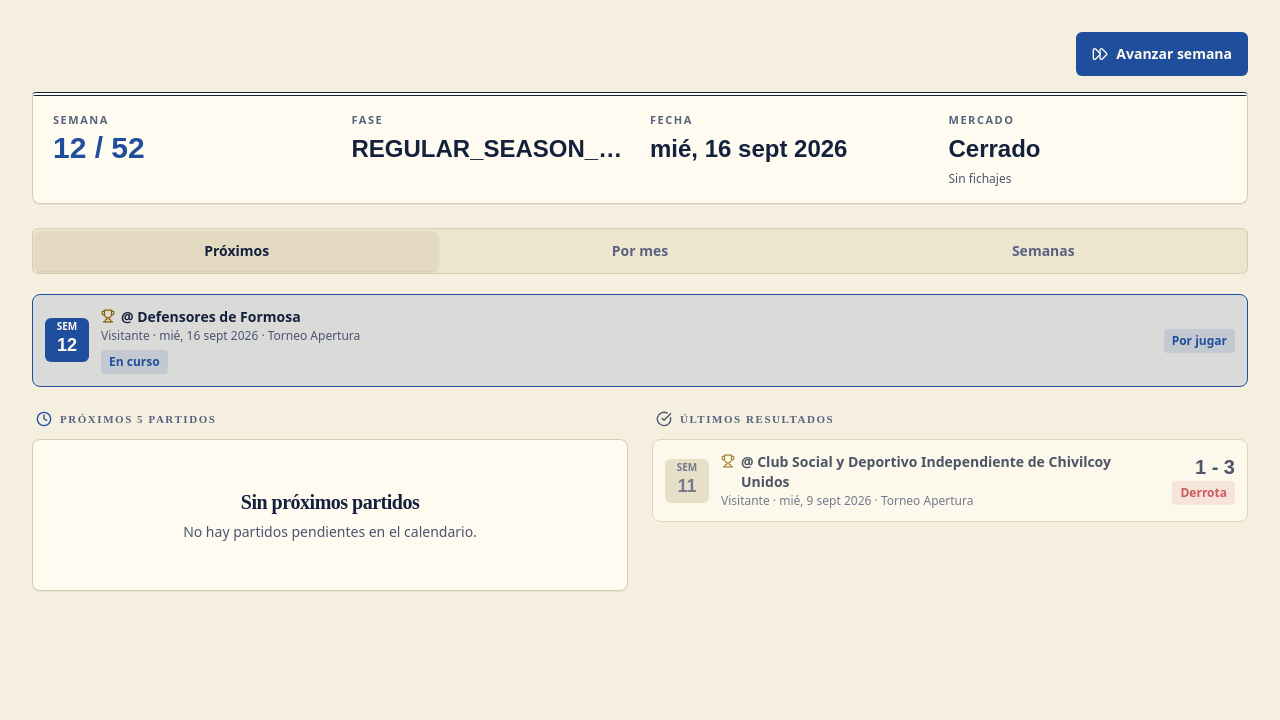
Test: filas del calendario › en la vista por semanas, una semana sin partido dice "Sin partido" con sus insignias
The image size is (1280, 720).
Click the radio button labelled "Semanas": point(1043, 250) [842,230,1245,270]
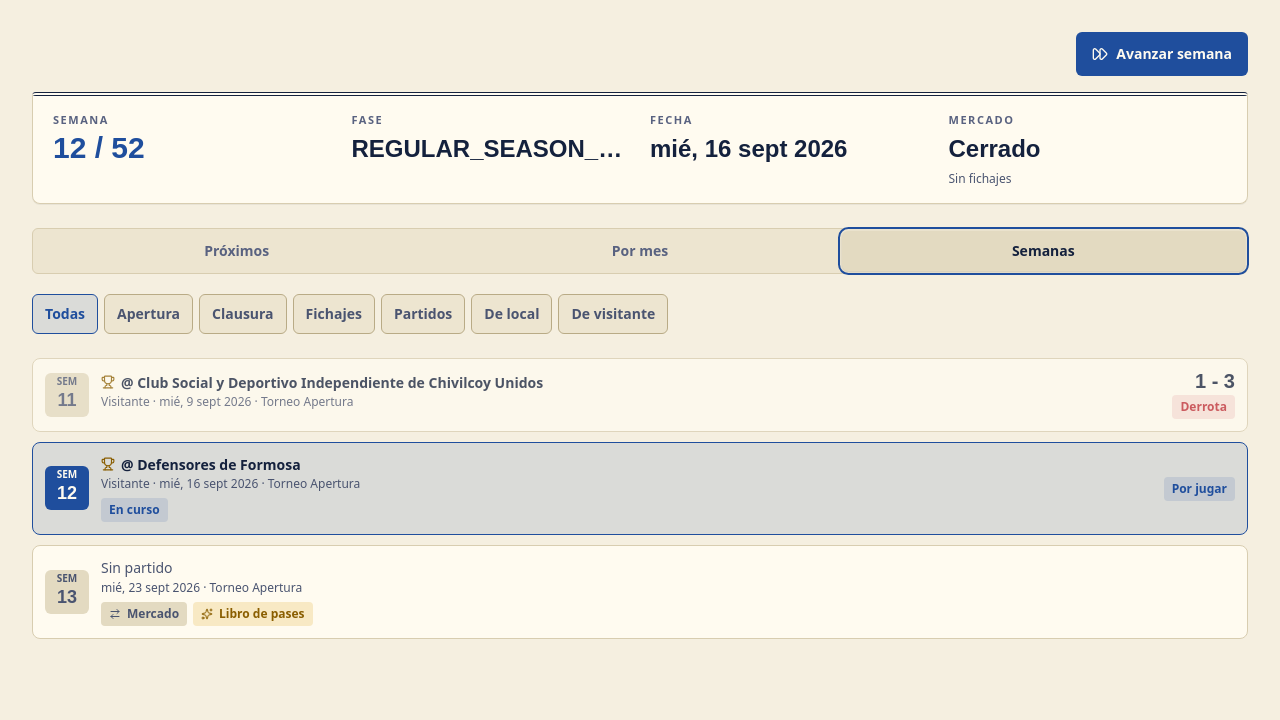
Expected: the number of list items is 3, [32,358,1248,432]; [32,442,1248,535]; [32,545,1248,639]
Expected: the text "Sin partido" is shown, [101,558,173,577]
Expected: the text "Mercado" is shown, [101,602,187,626]
